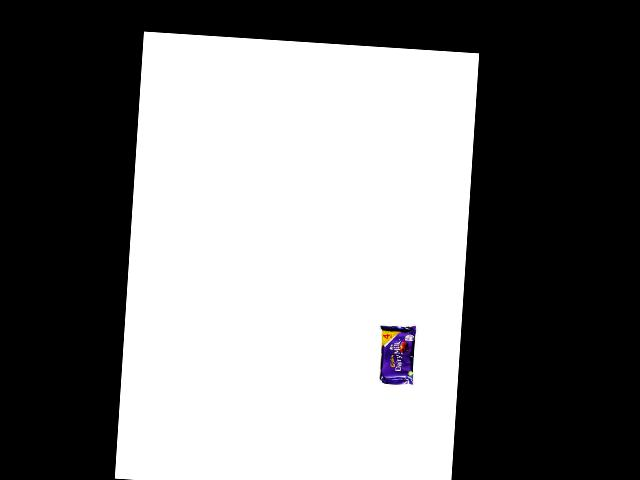chocolate: (377, 317, 421, 388)
